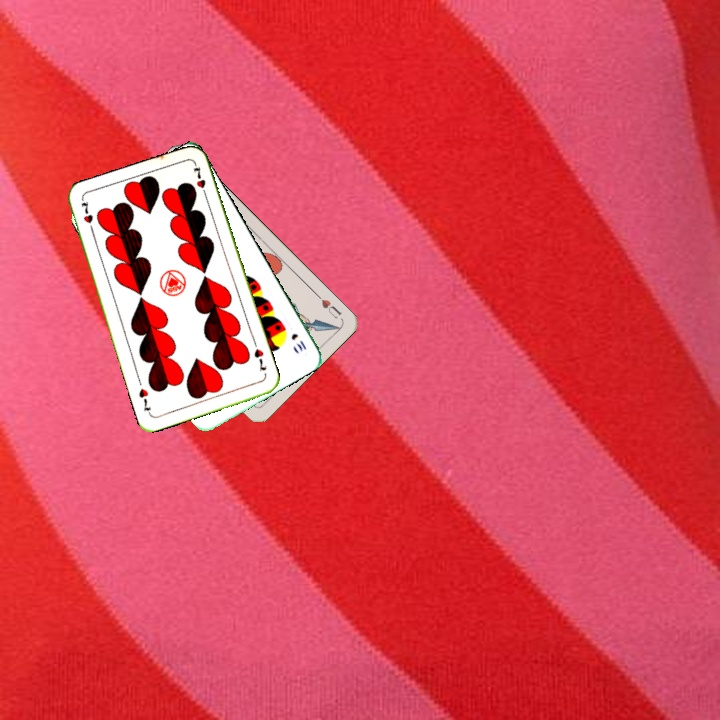H7: (77, 196, 96, 236), (250, 339, 269, 374)
HU: (312, 290, 344, 322)
S10: (287, 329, 309, 354)
